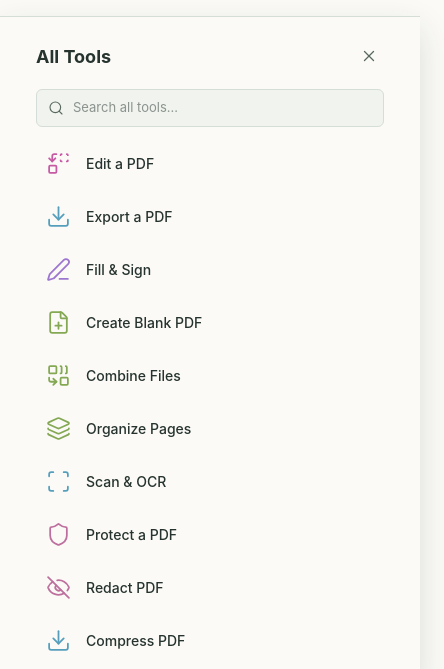
Test case: ToolPanel actions and modes › shows an empty grid when search matches nothing
Step 1. Type "zzz-no-such-tool" into the search field named "Search tools" → {"x": 210, "y": 108}, box x1=36 y1=89 x2=384 y2=126
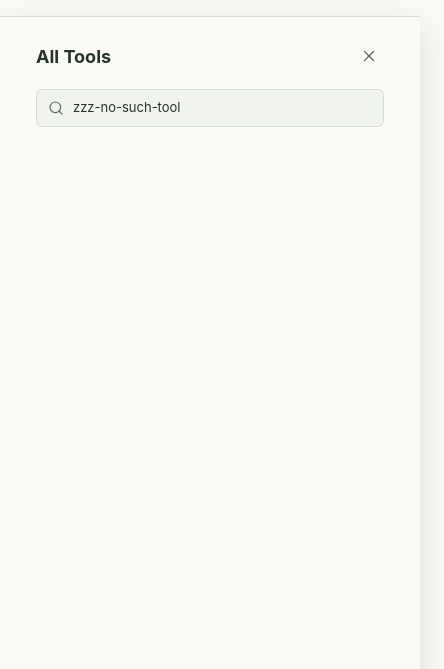
Result: no buttons with class "tool-card" are shown
